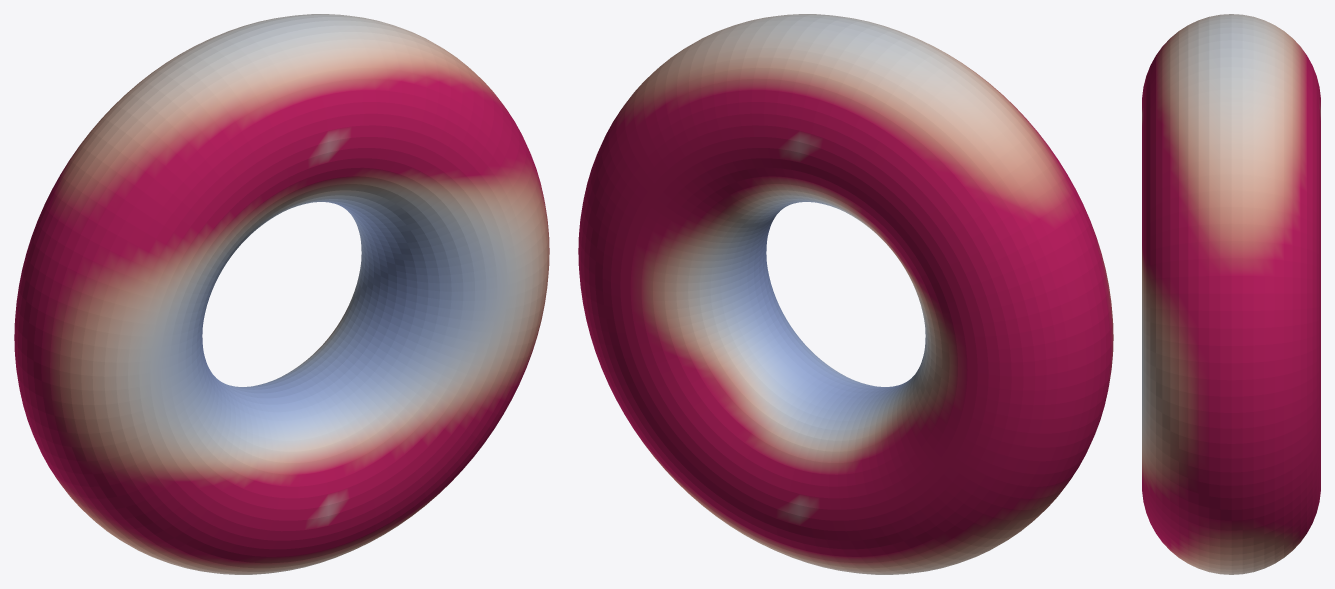
3 views of the same model, side by side, from view 1: azimuth 30°, elevation 25°; view 2: azimuth 150°, elevation 25°; view 3: azimuth 270°, elevation 25° (orthographic). The views are drawn at different scales.
Visible parts, largest first — view 1: world; view 2: world; view 3: world.
Part boxes in pixels (box(x1,y1,x2,y2)): world: box(14, 14, 549, 574); world: box(578, 14, 1113, 574); world: box(1142, 14, 1320, 574).
Bounding box in the file's own units: 25.47 × 25.47 × 8.12.
